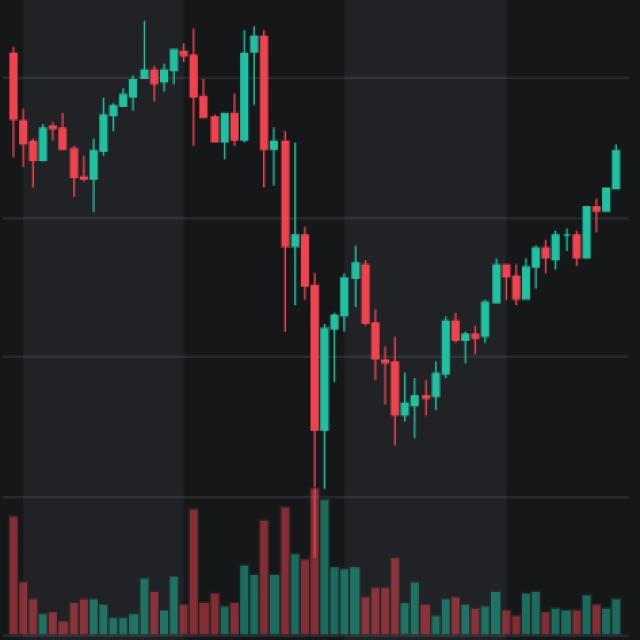Triangle: (275, 194, 531, 540)
